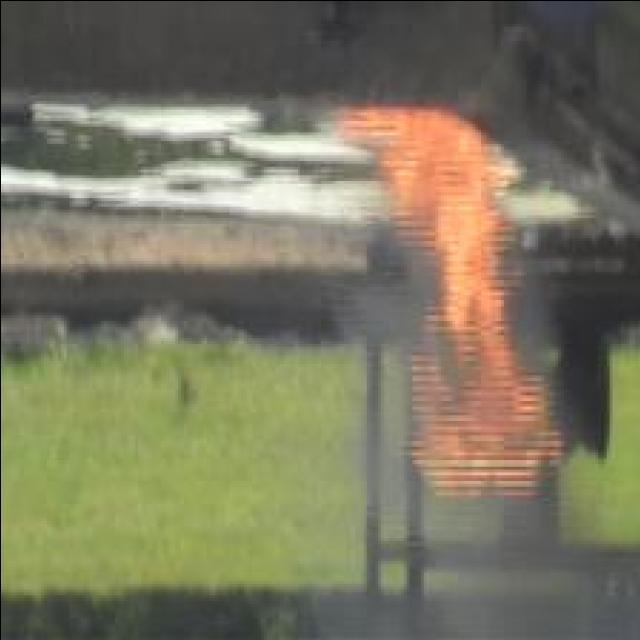Fire: (328, 107, 562, 493)
